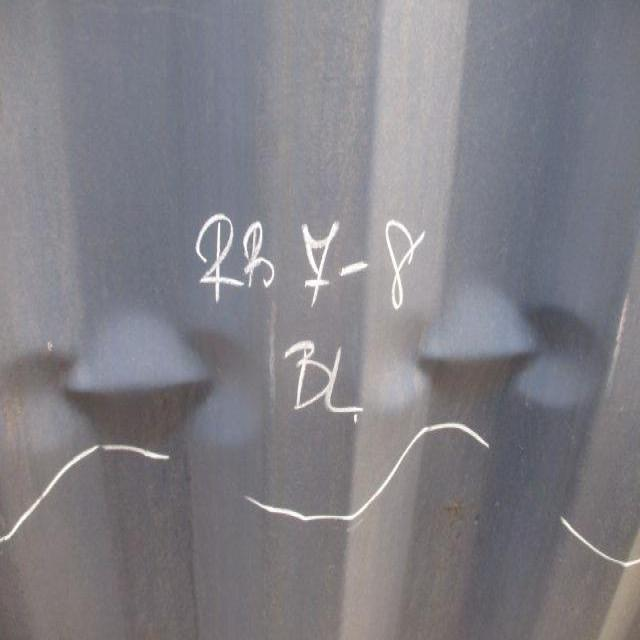Dent: (0, 262, 640, 478)
